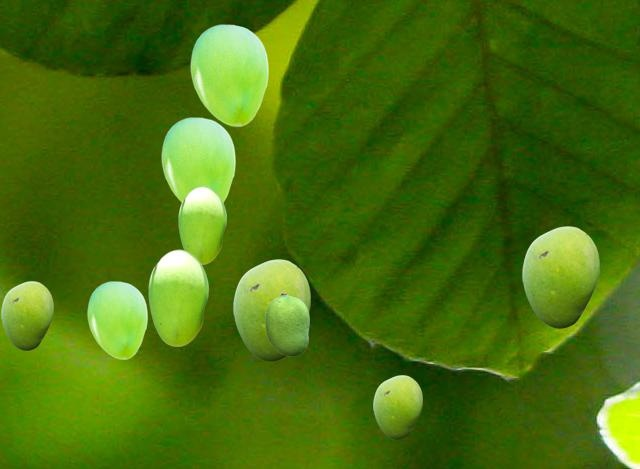green_mango: (190, 24, 267, 125), (522, 226, 598, 327), (233, 259, 309, 360), (161, 117, 234, 202), (148, 249, 207, 345), (87, 281, 146, 358), (178, 186, 225, 263), (1, 281, 52, 349), (373, 375, 421, 438), (265, 292, 308, 355)
